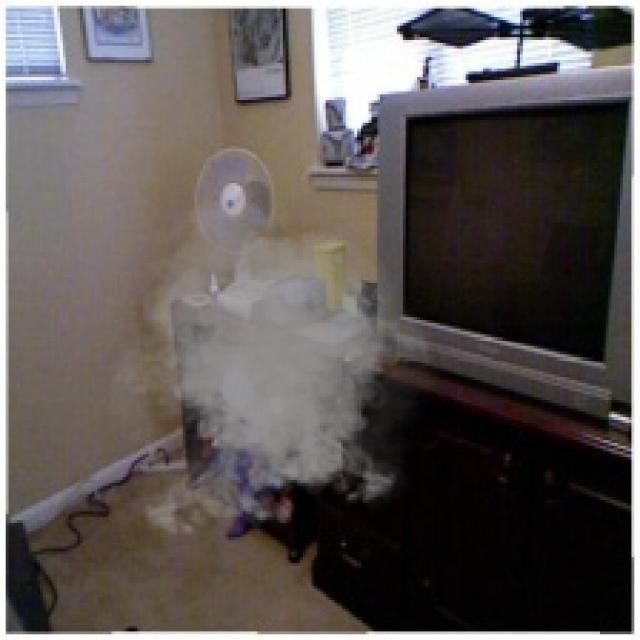smoke: (91, 194, 448, 546)
